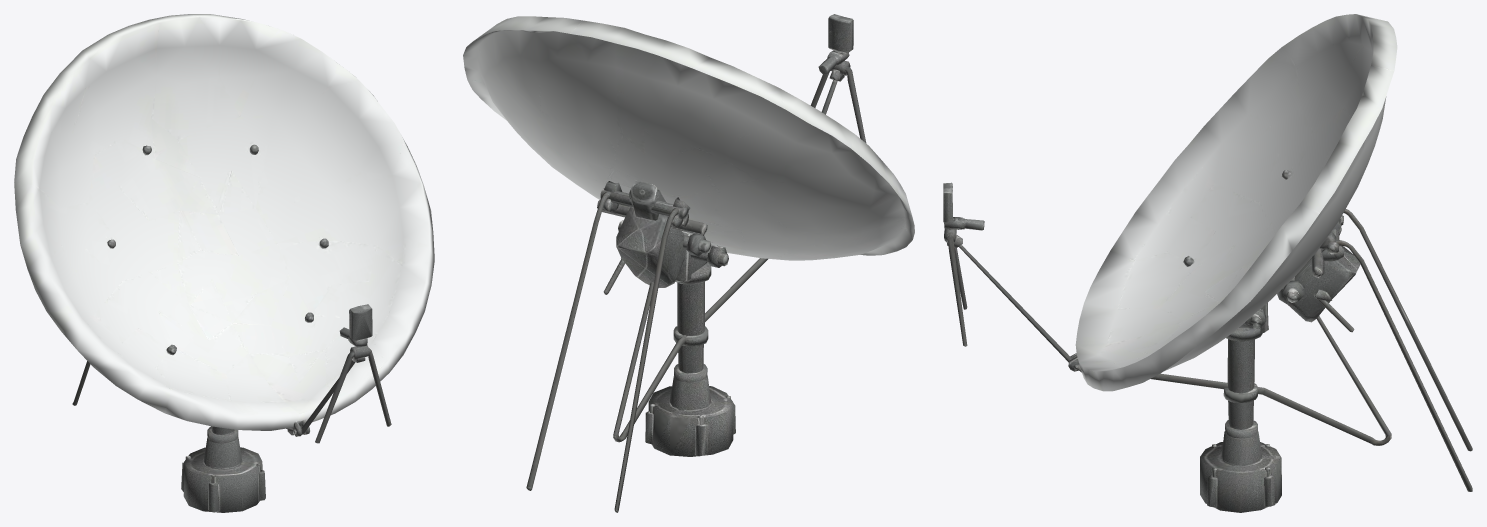
The model's file is roof-dish.glb.
3 views of the same model, side by side, from view 1: azimuth 30°, elevation 25°; view 2: azimuth 150°, elevation 25°; view 3: azimuth 270°, elevation 25° (orthographic). The views are drawn at different scales.
Bounding box in the file's own units: 0.9058 × 0.956 × 1.
Materials: 1 (1 with a texture image).
